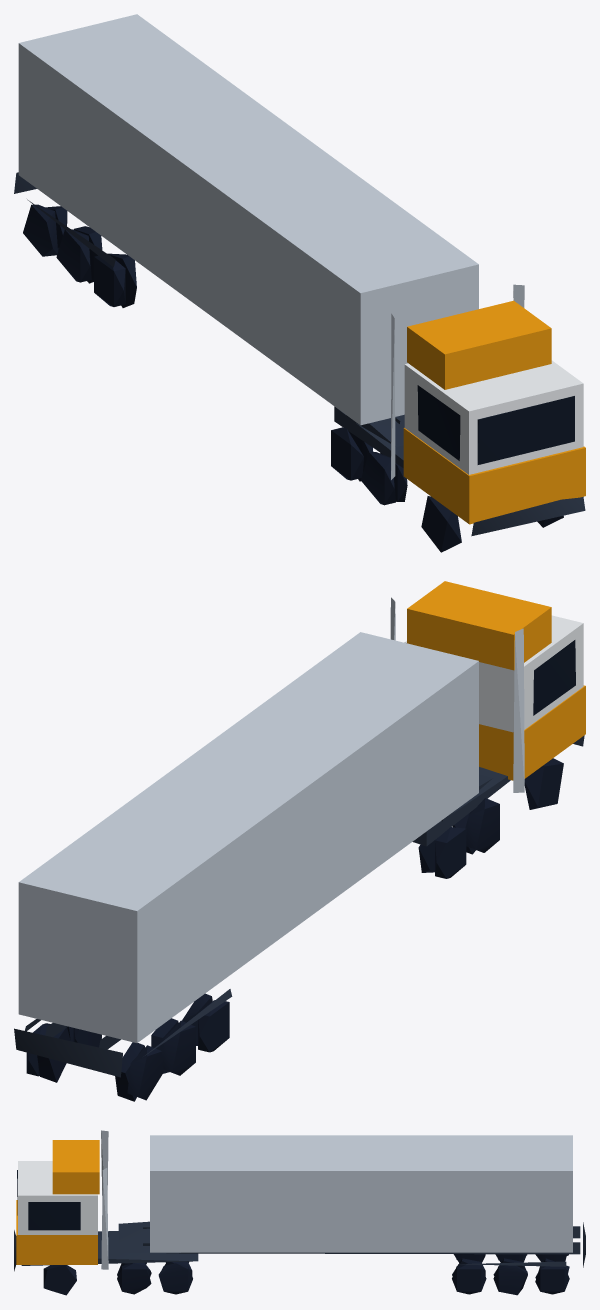
File: trailer.glb
The picture shows the model from 3 angles, top to bottom: view 1: azimuth 30°, elevation 25°; view 2: azimuth 150°, elevation 25°; view 3: azimuth 270°, elevation 25°; orthographic projection. The views are drawn at different scales.
Parts seen in each view (by area): view 1: trailer; view 2: trailer; view 3: trailer.
Boxes of the visible parts, x1,y1,x2,y2 form: trailer: [14, 14, 585, 552]; trailer: [14, 581, 585, 1101]; trailer: [14, 1130, 585, 1295].
Size of the model in its own units: 2.76 by 4.1 by 16.48.
Materials: 1 (1 with a texture image).
